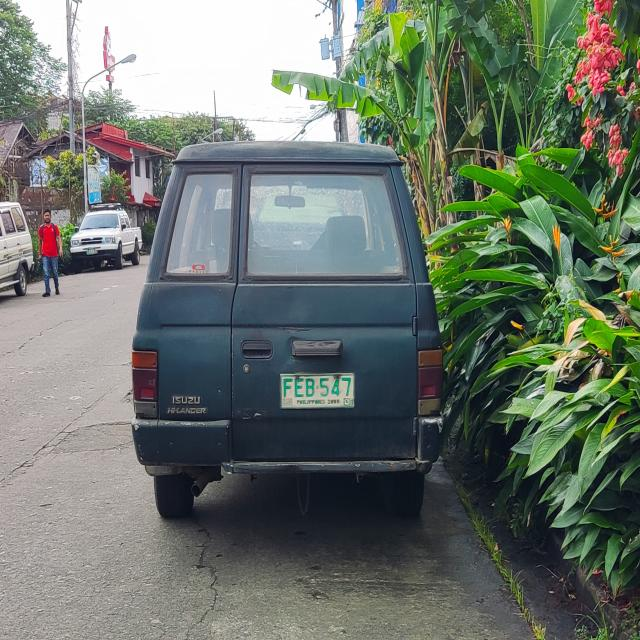plate: (279, 372, 356, 410)
